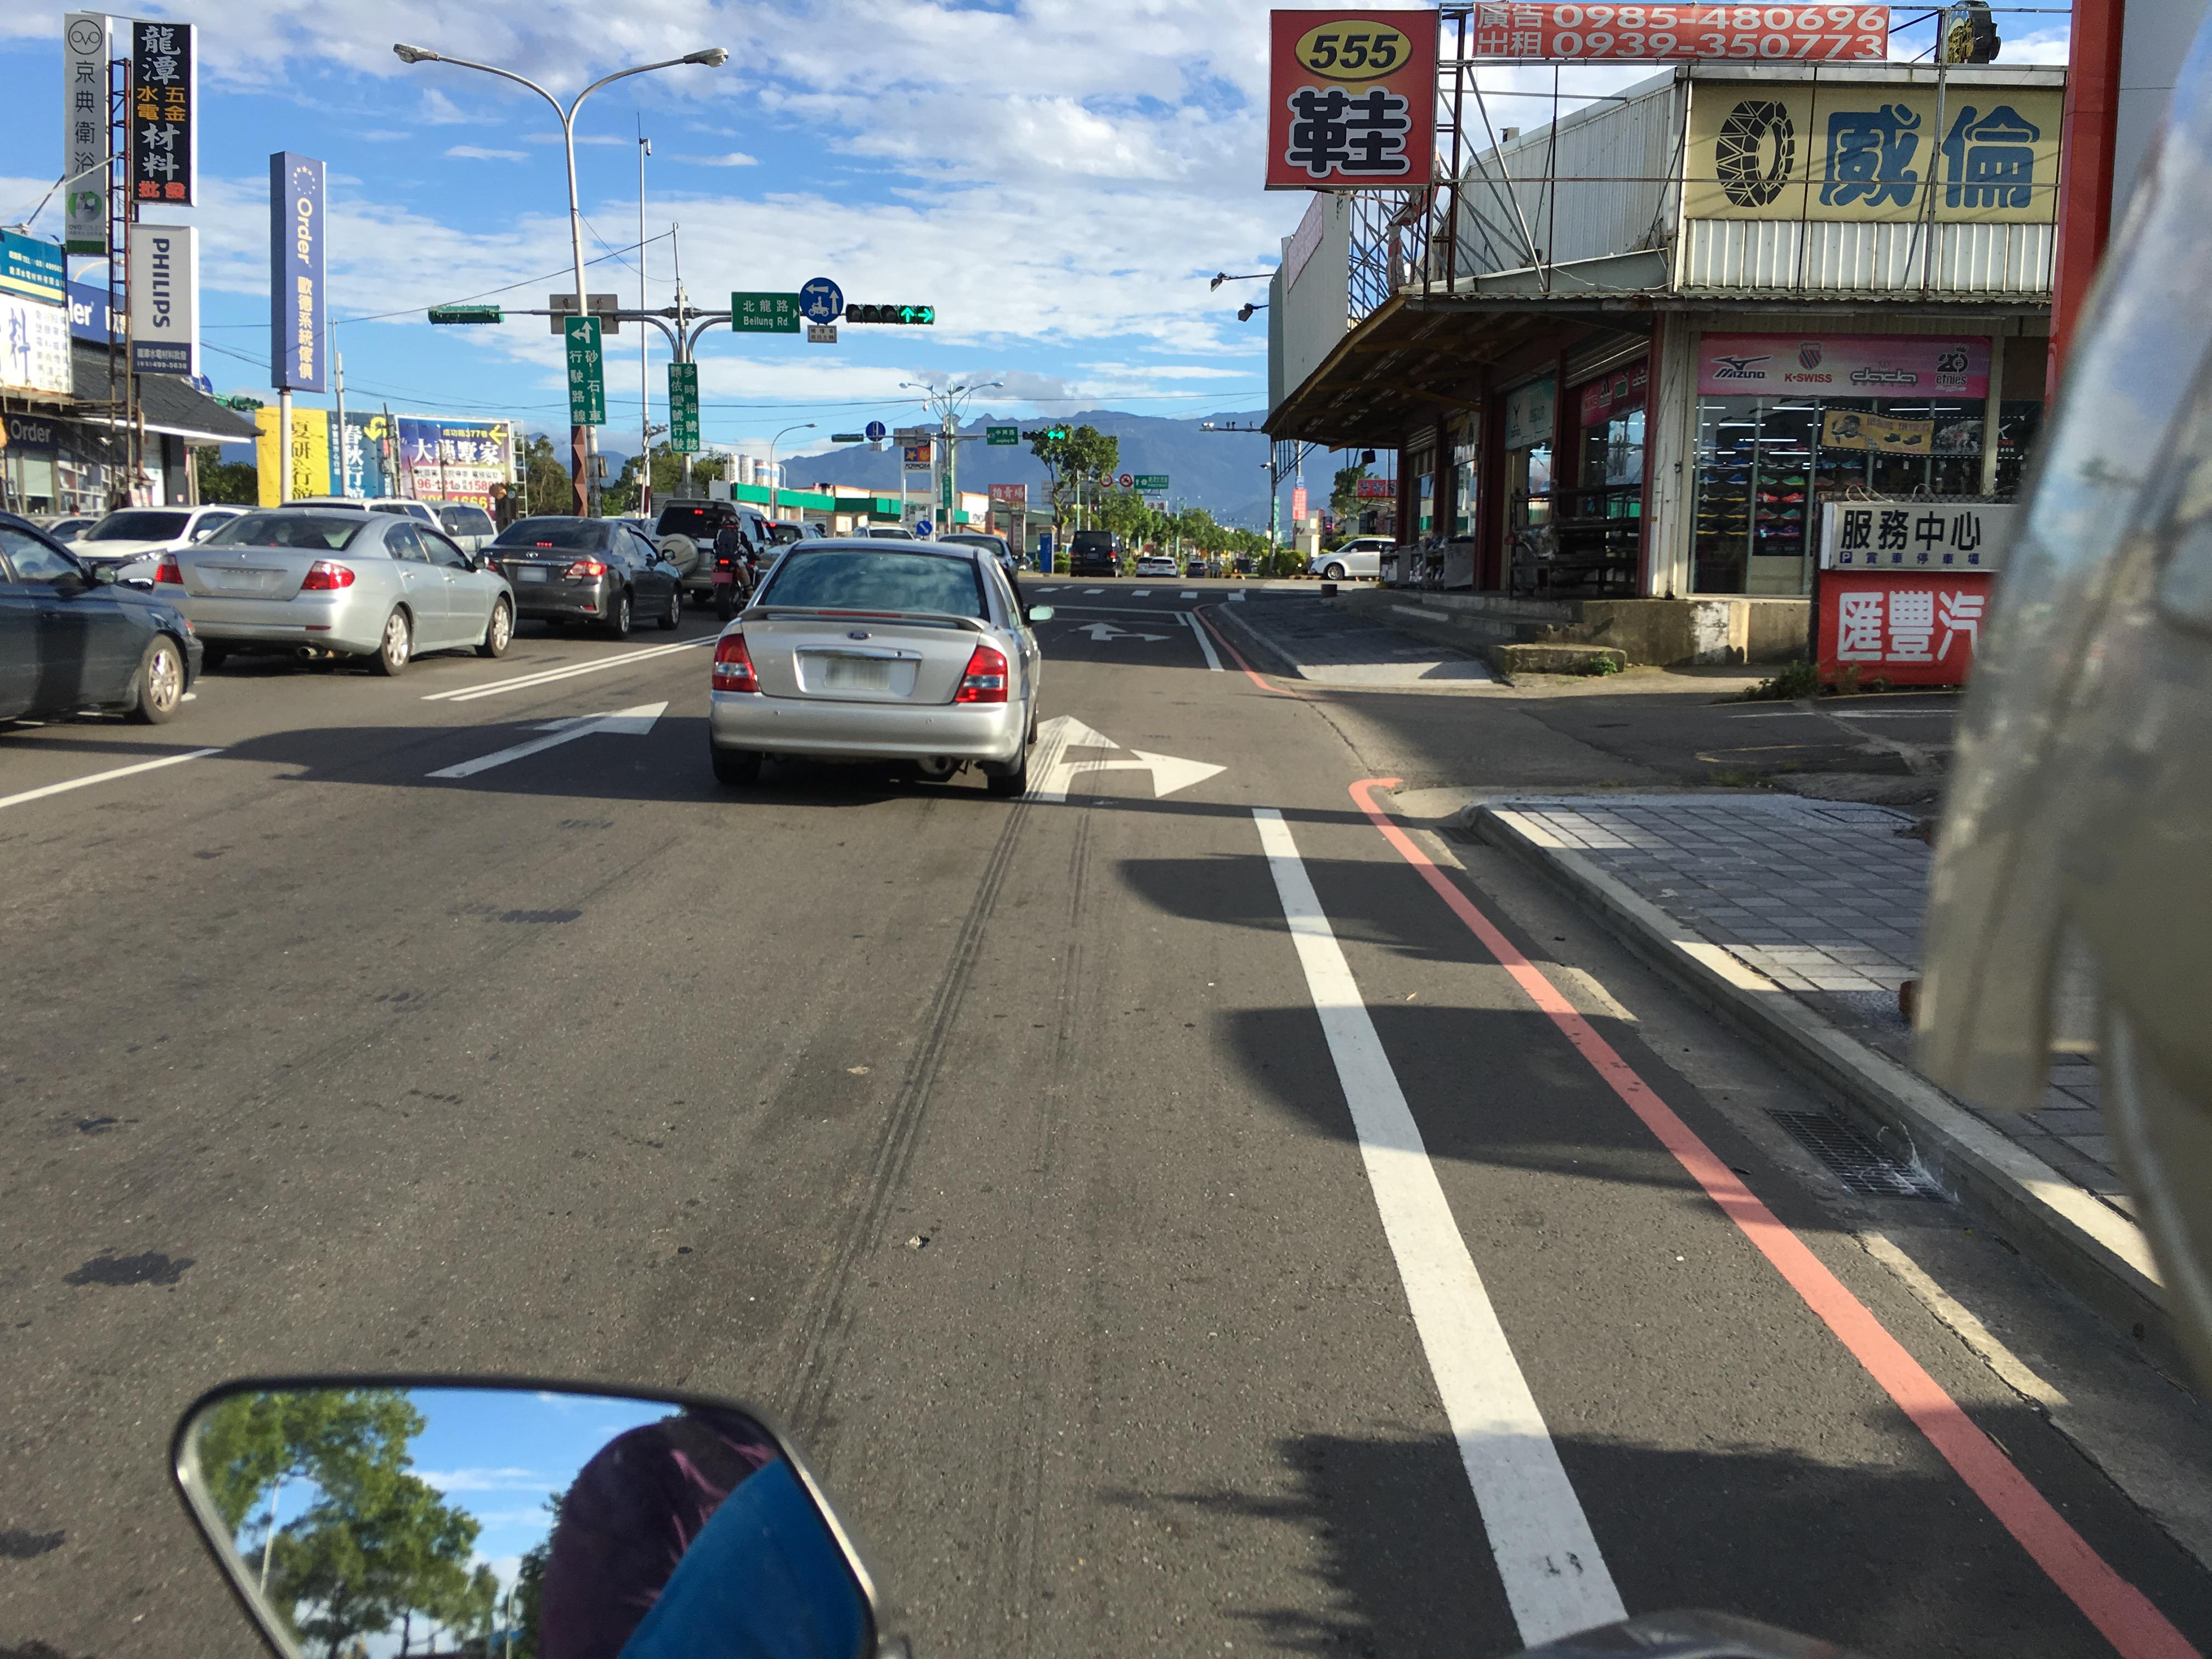vinyl banner: (1447, 0, 1900, 87)
